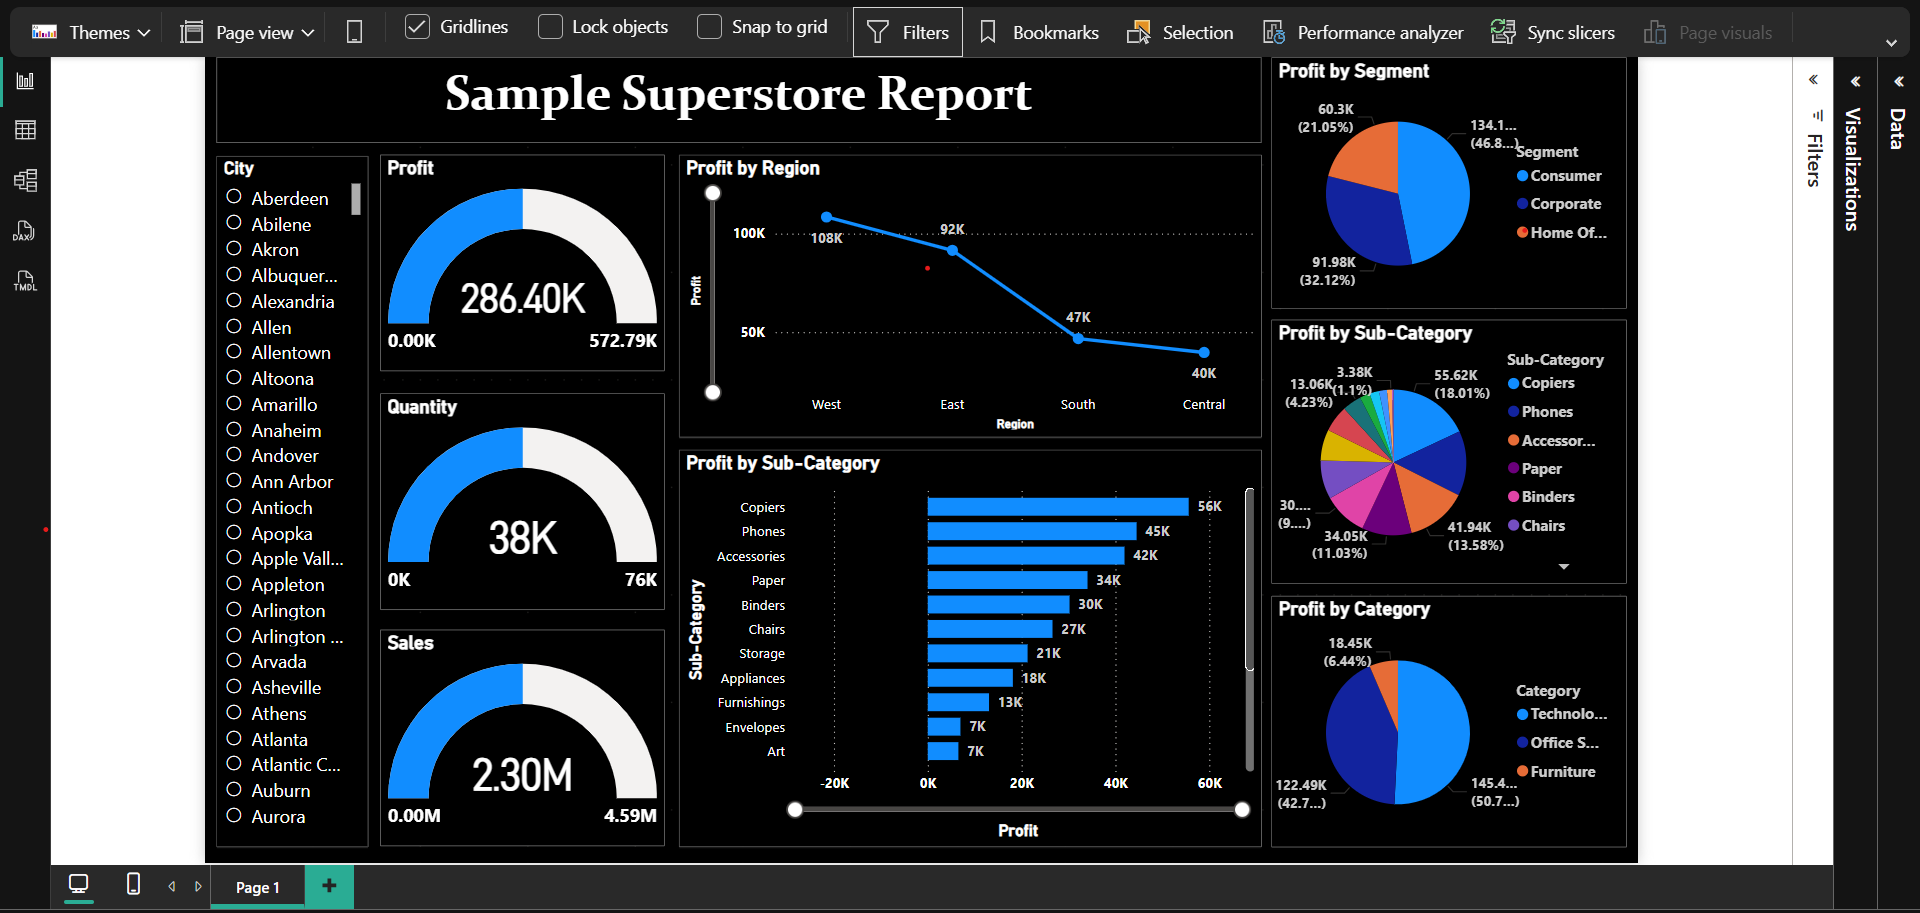

Layout of this report page (visuals, bound fields, positions):
{"tool":"powerbi","page":{"name":"Page 1","canvas":[1280,720],"ordinal":0},"visuals":[{"type":"textbox","box":[9.7,0,933.6,76.5],"z":0},{"type":"listSlicer","fields":{"Values":["Table1.City"]},"box":[9.7,87.7,136.3,617.7],"z":1000},{"type":"gauge","fields":{"Y":["Sum(Table1.Quantity)"]},"box":[155.8,300.5,254.3,193.2],"z":2000},{"type":"gauge","fields":{"Y":["Sum(Table1.Sales)"]},"box":[155.8,511.2,254.3,193.2],"z":3000},{"type":"gauge","fields":{"Y":["Sum(Table1.Profit)"]},"box":[155.8,87.3,254.3,193.2],"z":4000},{"type":"clusteredBarChart","fields":{"Y":["Sum(Table1.Profit)"],"Category":["Table1.Sub-Category"]},"box":[422.6,350.3,521.1,355.3],"z":5000},{"type":"lineChart","fields":{"Y":["Sum(Table1.Profit)"],"Category":["Table1.Region"]},"box":[422.6,87.3,521.1,253.1],"z":6000},{"type":"pieChart","fields":{"Y":["Sum(Table1.Profit)"],"Category":["Table1.Segment"]},"box":[952.5,0,317.9,224.4],"z":7000},{"type":"pieChart","fields":{"Y":["Sum(Table1.Profit)"],"Category":["Table1.Sub-Category"]},"box":[952.5,234.4,317.9,235.6],"z":8000},{"type":"pieChart","fields":{"Y":["Sum(Table1.Profit)"],"Category":["Table1.Category"]},"box":[952.5,481.2,317.9,224.4],"z":9000}]}

Visuals, with their boxes on the page's 1280x720 design canvas (x1, y1, x2, y2). These are canvas units, not pixel positions in the 1920x913 screenshot, which may show the page scaled, cropped or inside an application window:
textbox: 10 0 943 76
listSlicer - Table1.City: 10 88 146 705
gauge - Sum(Table1.Quantity): 156 300 410 494
gauge - Sum(Table1.Sales): 156 511 410 704
gauge - Sum(Table1.Profit): 156 87 410 280
clusteredBarChart - Sum(Table1.Profit) x Table1.Sub-Category: 423 350 944 706
lineChart - Sum(Table1.Profit) x Table1.Region: 423 87 944 340
pieChart - Sum(Table1.Profit) x Table1.Segment: 952 0 1270 224
pieChart - Sum(Table1.Profit) x Table1.Sub-Category: 952 234 1270 470
pieChart - Sum(Table1.Profit) x Table1.Category: 952 481 1270 706
